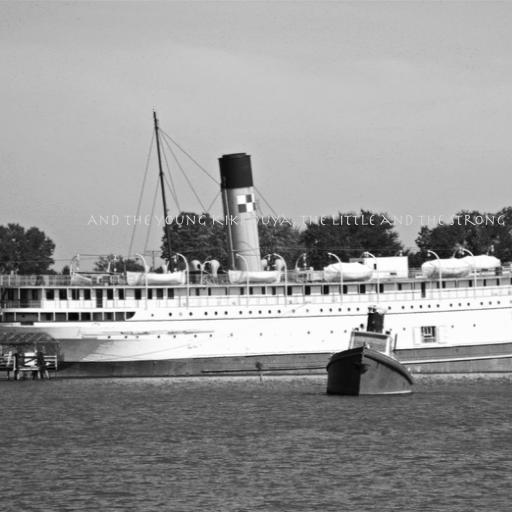Herculanum: (86, 214, 506, 227)
